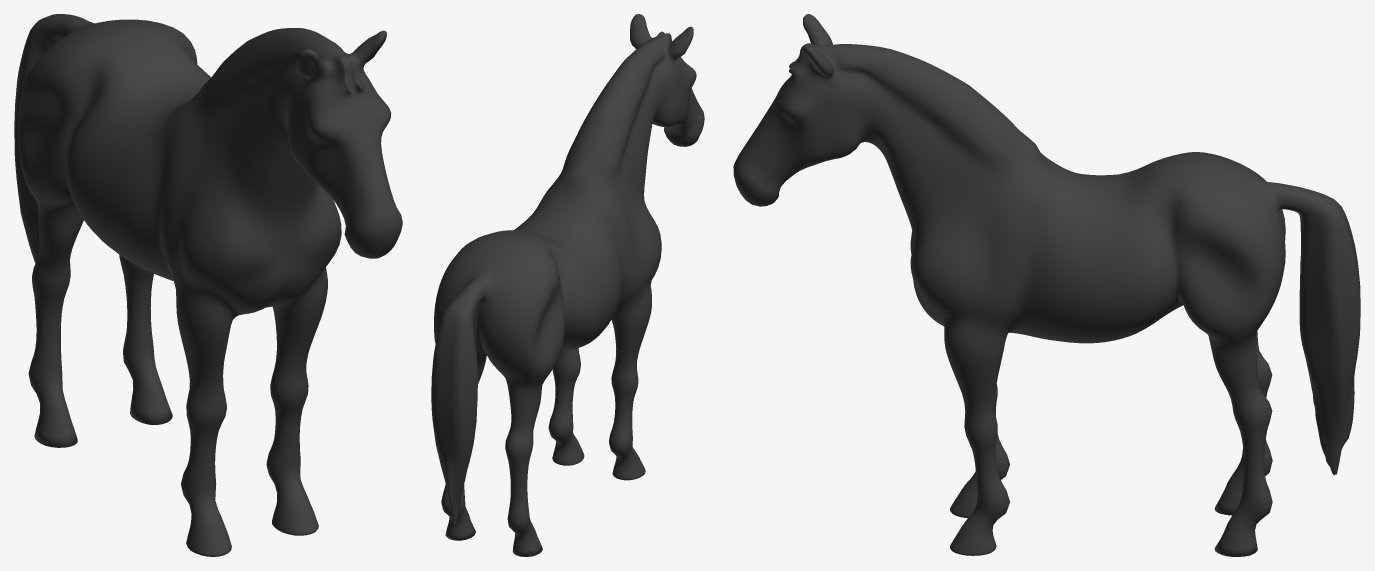
The model's file is user_horse.glb.
3 renders of one model, left to right at view 1: azimuth 30°, elevation 25°; view 2: azimuth 150°, elevation 25°; view 3: azimuth 270°, elevation 25°, orthographic. The views are drawn at different scales.
Parts seen in each view (by area): view 1: world; view 2: world; view 3: world.
Part boxes in pixels (<box>): world: <box>14,14,402,556</box>; world: <box>431,14,704,556</box>; world: <box>733,14,1360,556</box>.
Bounding box in the file's own units: 0.5237 × 1.64 × 1.86.
1 material, 1 textured.
